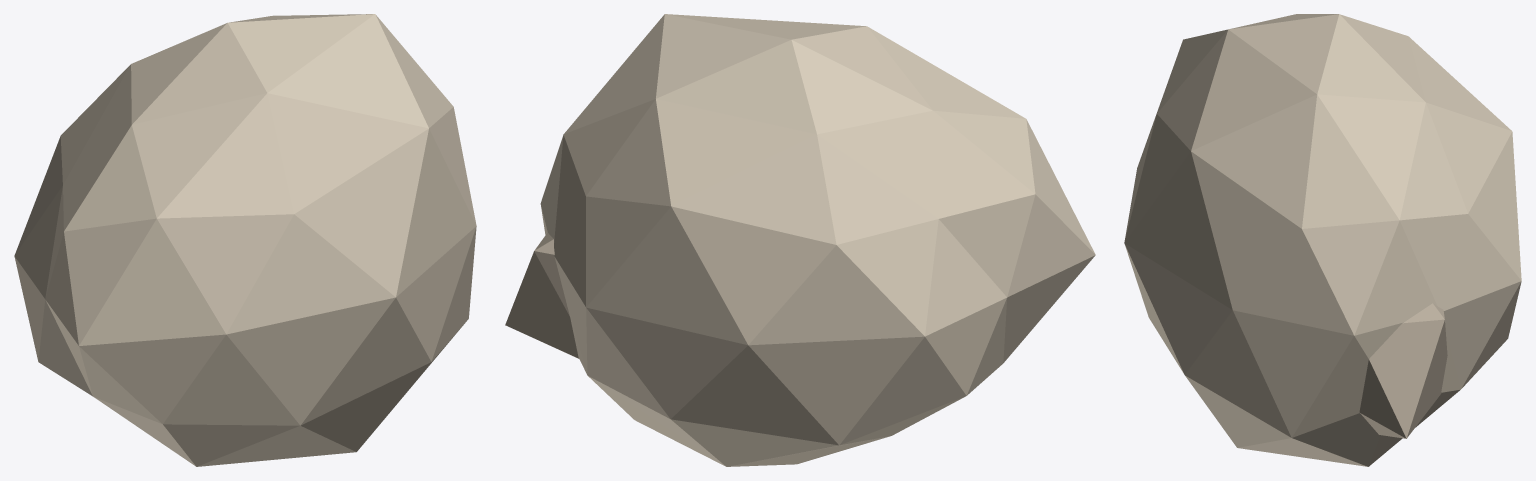
The model's file is campo_rock_granite_1.glb.
3 views of the same model, side by side, from view 1: azimuth 30°, elevation 25°; view 2: azimuth 150°, elevation 25°; view 3: azimuth 270°, elevation 25° (orthographic). The views are drawn at different scales.
Parts seen in each view (by area): view 1: campo_rock_granite_1.glb; view 2: campo_rock_granite_1.glb; view 3: campo_rock_granite_1.glb.
Part boxes in pixels (x1=…): campo_rock_granite_1.glb: x1=14, y1=14, x2=476, y2=466; campo_rock_granite_1.glb: x1=505, y1=14, x2=1095, y2=466; campo_rock_granite_1.glb: x1=1124, y1=14, x2=1521, y2=466.
Bounding box in the file's own units: 1.89 × 1.64 × 1.42.
